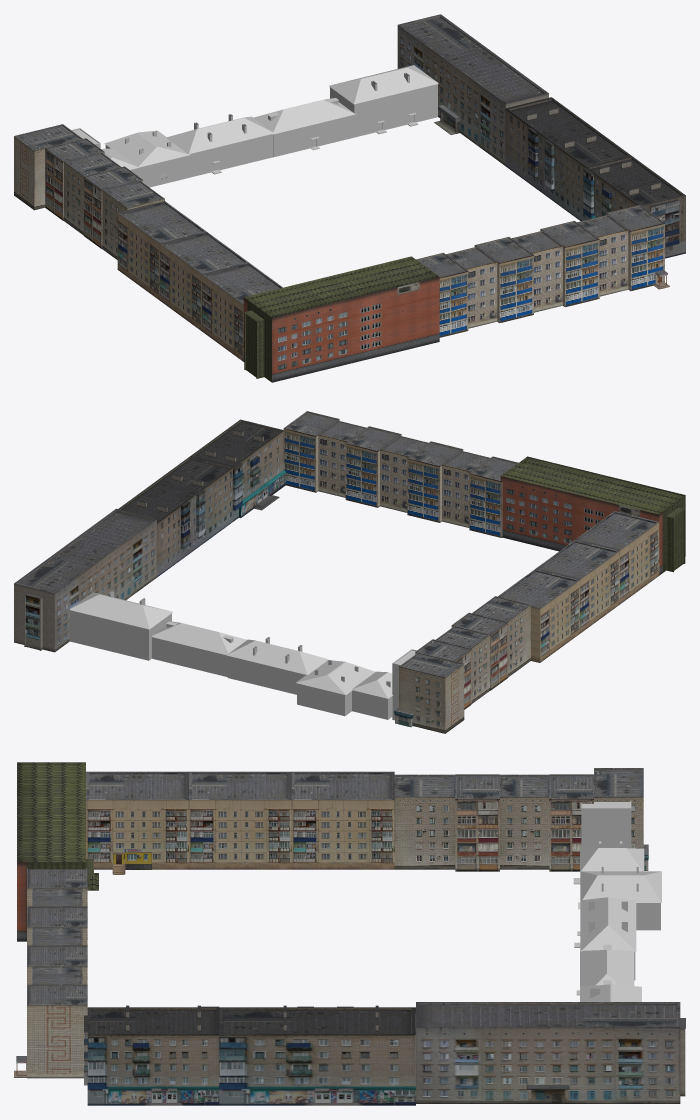
Rendered from chinatown building.fbx.
The picture shows the model from 3 angles, top to bottom: view 1: azimuth 30°, elevation 25°; view 2: azimuth 150°, elevation 25°; view 3: azimuth 270°, elevation 25°; orthographic projection. The views are drawn at different scales.
Parts seen in each view (by area): view 1: polySurface11, model:_01_Default_14__01_Default_14_14__01_Default_1, model:_01_Default_4__01_Default_4_4__01_Default_1, model:_01_Default_5__01_Default_5_5__01_Default_1, model:_01_Default_17__01_Default_17_17__01_Default_1, polySurface26, model:_01_Default_2__01_Default_2_2__01_Default, model:_01_Default_10__01_Default_10_10__01_Default, model:_01_Default_19__01_Default_19_19__01_Default, model:_01_Default_11__01_Default_11_11__01_Default; view 2: polySurface11, model:_01_Default_4__01_Default_4_4__01_Default_1, model:_01_Default_5__01_Default_5_5__01_Default_1, model:_01_Default_14__01_Default_14_14__01_Default_1, model:_01_Default_17__01_Default_17_17__01_Default_1, polySurface26, model:_01_Default_2__01_Default_2_2__01_Default, model:_01_Default_10__01_Default_10_10__01_Default, model:_01_Default_19__01_Default_19_19__01_Default, model:_01_Default_11__01_Default_11_11__01_Default, model:_1_m_onetex_13__1_m_onetex_13_13__1_m_onetex, polySurface167; view 3: model:_01_Default_4__01_Default_4_4__01_Default_1, model:_01_Default_5__01_Default_5_5__01_Default_1, model:_01_Default_17__01_Default_17_17__01_Default_1, polySurface26, polySurface11, model:_01_Default_14__01_Default_14_14__01_Default_1, model:_01_Default_11__01_Default_11_11__01_Default, model:_01_Default_10__01_Default_10_10__01_Default, polySurface167, model:_01_Default_19__01_Default_19_19__01_Default, model:_1_m_onetex_13__1_m_onetex_13_13__1_m_onetex, model:_01_Default_2__01_Default_2_2__01_Default.
Boxes of the visible parts, x1,y1,x2,y2 form: polySurface11: (416, 205, 669, 337); model:_01_Default_14__01_Default_14_14__01_Default_1: (243, 256, 439, 382); model:_01_Default_4__01_Default_4_4__01_Default_1: (505, 97, 685, 258); model:_01_Default_5__01_Default_5_5__01_Default_1: (117, 201, 282, 361); model:_01_Default_17__01_Default_17_17__01_Default_1: (397, 14, 548, 165); polySurface26: (14, 124, 164, 259); model:_01_Default_2__01_Default_2_2__01_Default: (329, 65, 438, 137); model:_01_Default_10__01_Default_10_10__01_Default: (166, 114, 274, 177); model:_01_Default_19__01_Default_19_19__01_Default: (253, 98, 355, 157); model:_01_Default_11__01_Default_11_11__01_Default: (104, 130, 190, 187); polySurface11: (283, 411, 518, 537); model:_01_Default_4__01_Default_4_4__01_Default_1: (118, 419, 286, 577); model:_01_Default_5__01_Default_5_5__01_Default_1: (498, 511, 659, 662); model:_01_Default_14__01_Default_14_14__01_Default_1: (500, 456, 685, 575); model:_01_Default_17__01_Default_17_17__01_Default_1: (14, 508, 156, 652); polySurface26: (394, 596, 530, 733); model:_01_Default_2__01_Default_2_2__01_Default: (70, 590, 172, 660); model:_01_Default_10__01_Default_10_10__01_Default: (226, 637, 328, 694); model:_01_Default_19__01_Default_19_19__01_Default: (151, 621, 246, 676); model:_01_Default_11__01_Default_11_11__01_Default: (296, 660, 375, 716); model:_1_m_onetex_13__1_m_onetex_13_13__1_m_onetex: (352, 671, 392, 719); polySurface167: (392, 649, 416, 720); model:_01_Default_4__01_Default_4_4__01_Default_1: (84, 1005, 415, 1105); model:_01_Default_5__01_Default_5_5__01_Default_1: (86, 771, 394, 874); model:_01_Default_17__01_Default_17_17__01_Default_1: (416, 1002, 685, 1103); polySurface26: (394, 768, 648, 871); polySurface11: (14, 867, 87, 1078); model:_01_Default_14__01_Default_14_14__01_Default_1: (17, 762, 98, 941); model:_01_Default_11__01_Default_11_11__01_Default: (578, 867, 661, 930); model:_01_Default_10__01_Default_10_10__01_Default: (574, 897, 636, 980); polySurface167: (581, 801, 631, 848); model:_01_Default_19__01_Default_19_19__01_Default: (576, 944, 634, 995); model:_1_m_onetex_13__1_m_onetex_13_13__1_m_onetex: (573, 841, 644, 884); model:_01_Default_2__01_Default_2_2__01_Default: (580, 984, 641, 1001).
Size of the model in its own units: 12368 by 1797 by 13076.
